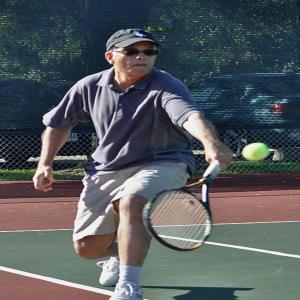TennisBall: (245, 145, 271, 162)
